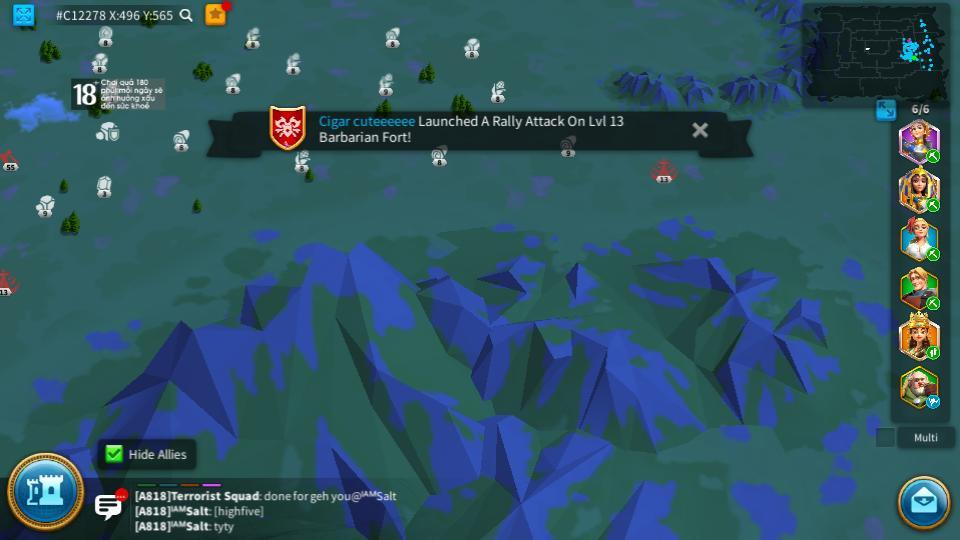gem-z-out: (94, 175, 113, 195), (97, 26, 115, 46)
march_idle: (925, 396, 942, 408)
march_marching: (925, 197, 941, 212), (925, 345, 941, 359), (925, 150, 942, 162), (925, 297, 942, 308), (925, 250, 941, 261)
